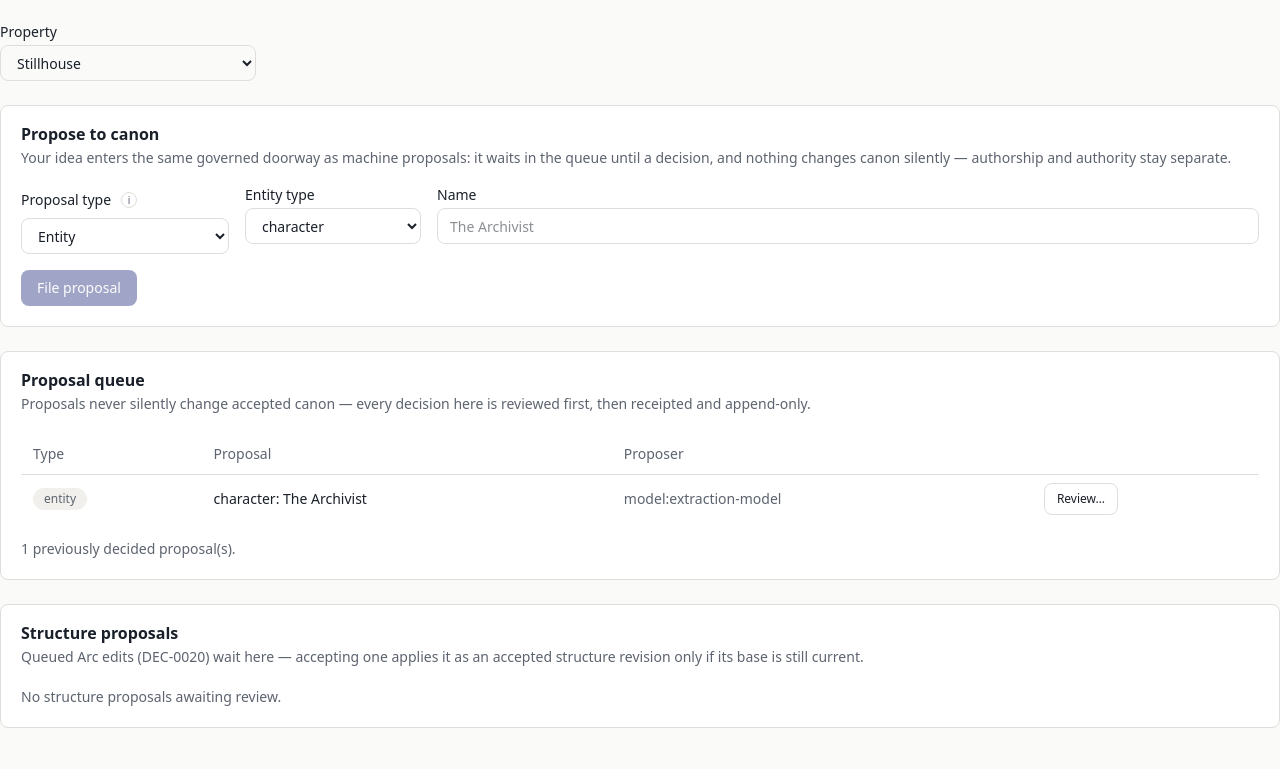
Test: Review Room › a single activation opens the review — it never decides (SWUX-002)
Click the button "Review…": (1081, 498) [1044,482,1118,514]
(page scrolled)
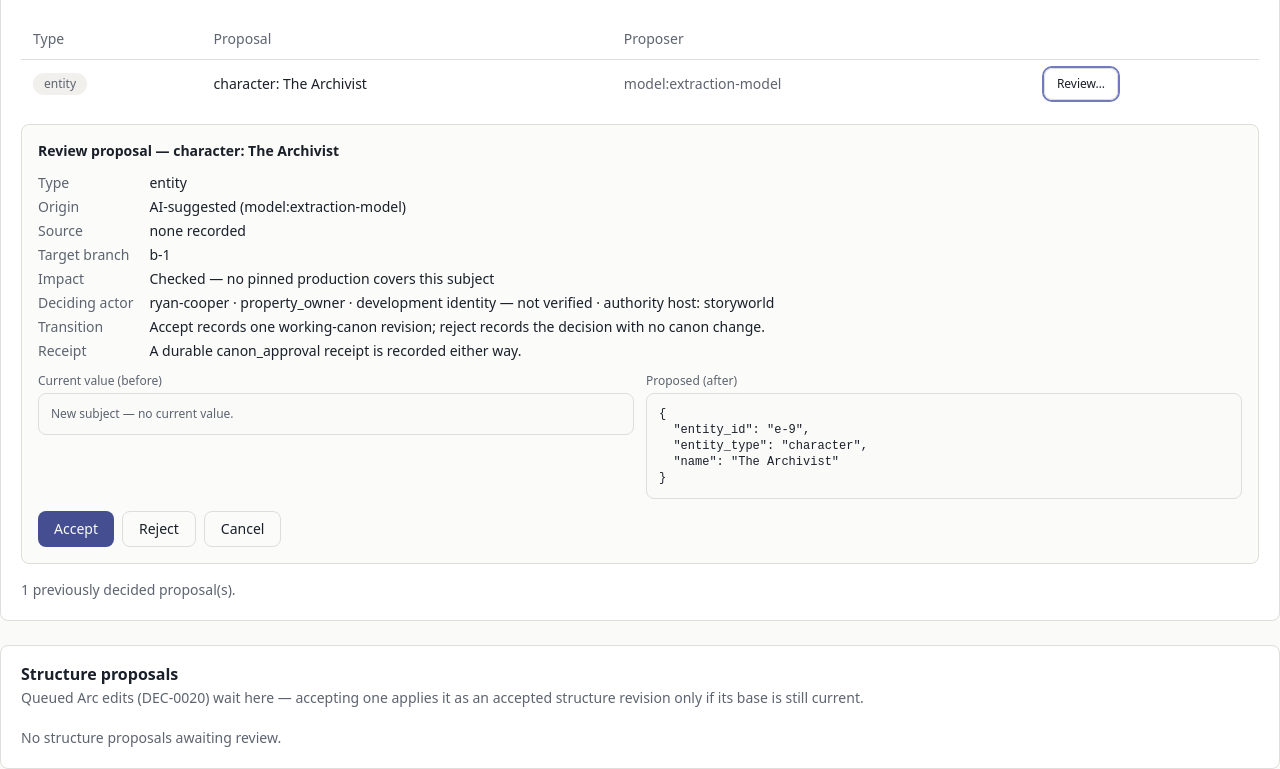
expect the text "Accept records one working-canon revision" is shown: met, box [150,316,765,336]
expect the text "development identity — not verified" is shown: met, box [150,292,774,312]
expect the text "\"entity_id\": \"e-9\"" is shown: met, box [659,406,868,484]
